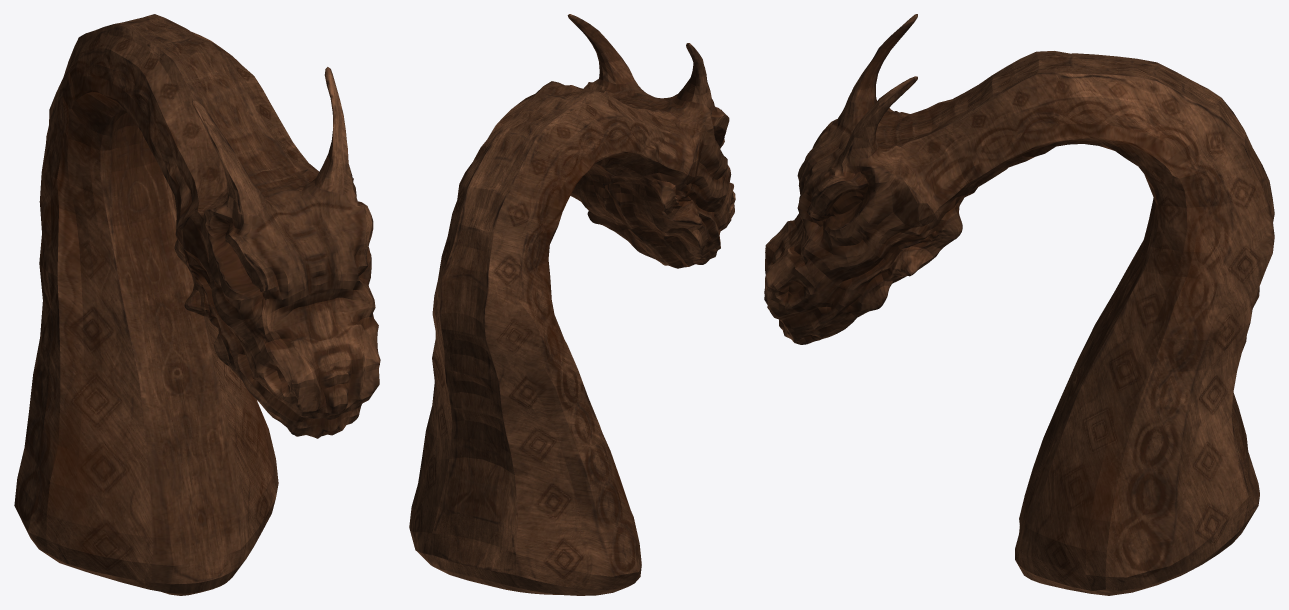
The model's file is dragon_carving.glb.
3 views of the same model, side by side, from view 1: azimuth 30°, elevation 25°; view 2: azimuth 150°, elevation 25°; view 3: azimuth 270°, elevation 25° (orthographic). The views are drawn at different scales.
Visible parts, largest first — view 1: defaultMaterial; view 2: defaultMaterial; view 3: defaultMaterial.
Boxes of the visible parts, x1,y1,x2,y2 form: defaultMaterial: (14, 14, 380, 595); defaultMaterial: (409, 14, 735, 595); defaultMaterial: (764, 14, 1274, 595).
Bounding box in the file's own units: 55.39 × 120 × 105.
Materials: 1 (1 with a texture image).
